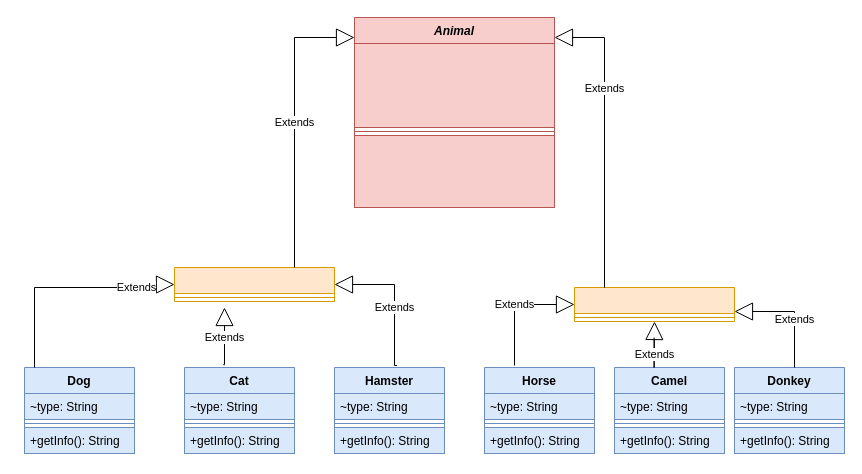
Some shapes in this 862 by 474 pixel diagram are drawn without their labels. Here are the shapes that lost their labels. From the top down, the centre of each, then its label:
At point (454, 85): "#id: int #name: String #birthDate: String #commandList: ArrayList<String>".
At point (454, 171): "+getId(): int +commandIntegrator(): String +getInfo(): String".
At point (254, 284): "Pet".
At point (654, 304): "PackAnimal".
